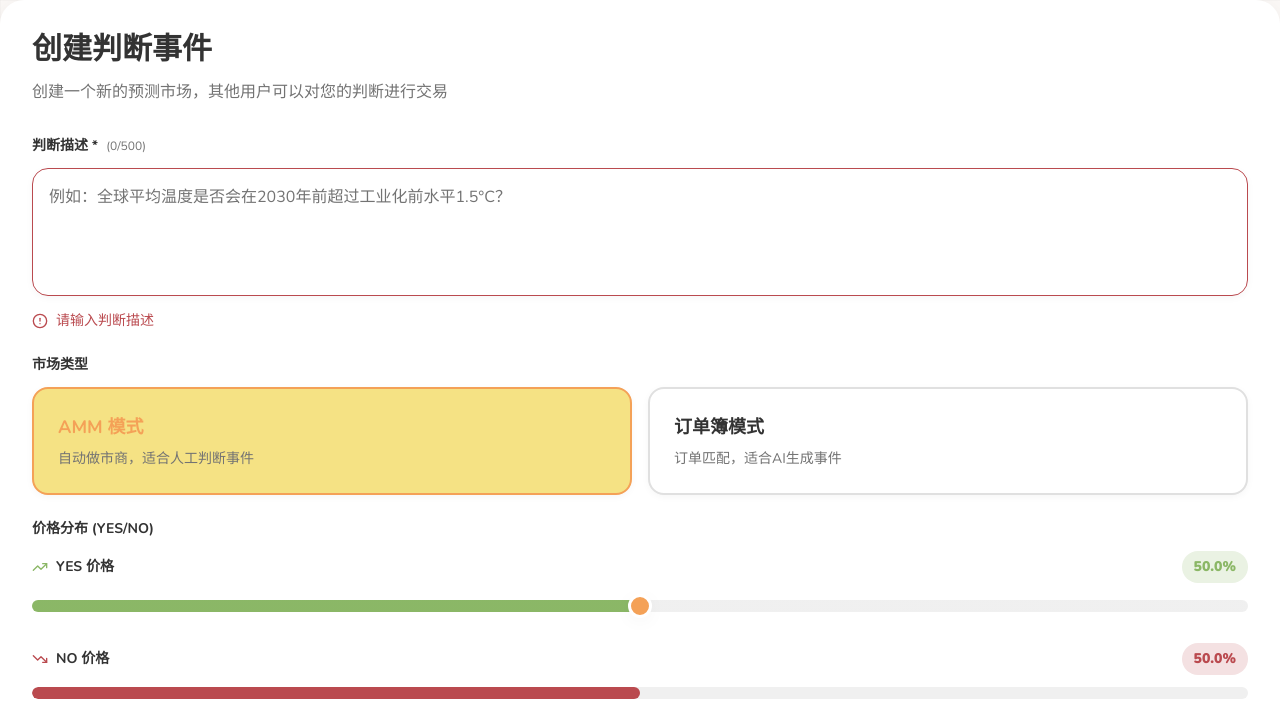
JudgmentSubmission › updates price distribution correctly
Set the slider showing "0.5" to "0.7": (940, 606) [32, 600, 1248, 612]
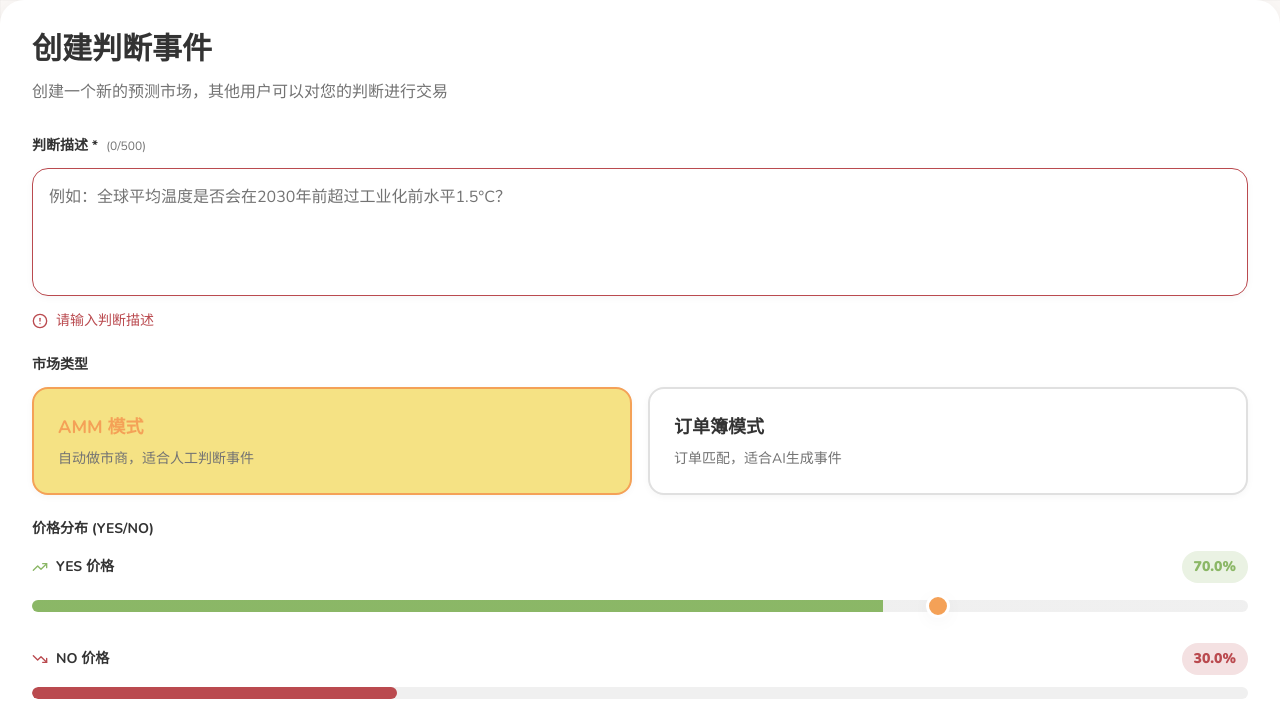
Expected: the text "70.0%" is shown, [1182, 551, 1248, 583]
Expected: the text "30.0%" is shown, [1182, 643, 1248, 675]
